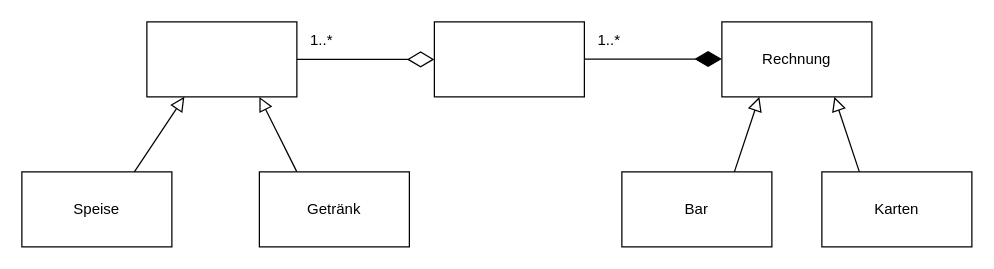
Image size: 994x269. Some labels were removed from this diagram. Here are the shapes that lost their labels. From the top down, the centre of each, then its label:
At [221,59]: "Essen".
At [508,59]: "Bestellung".
